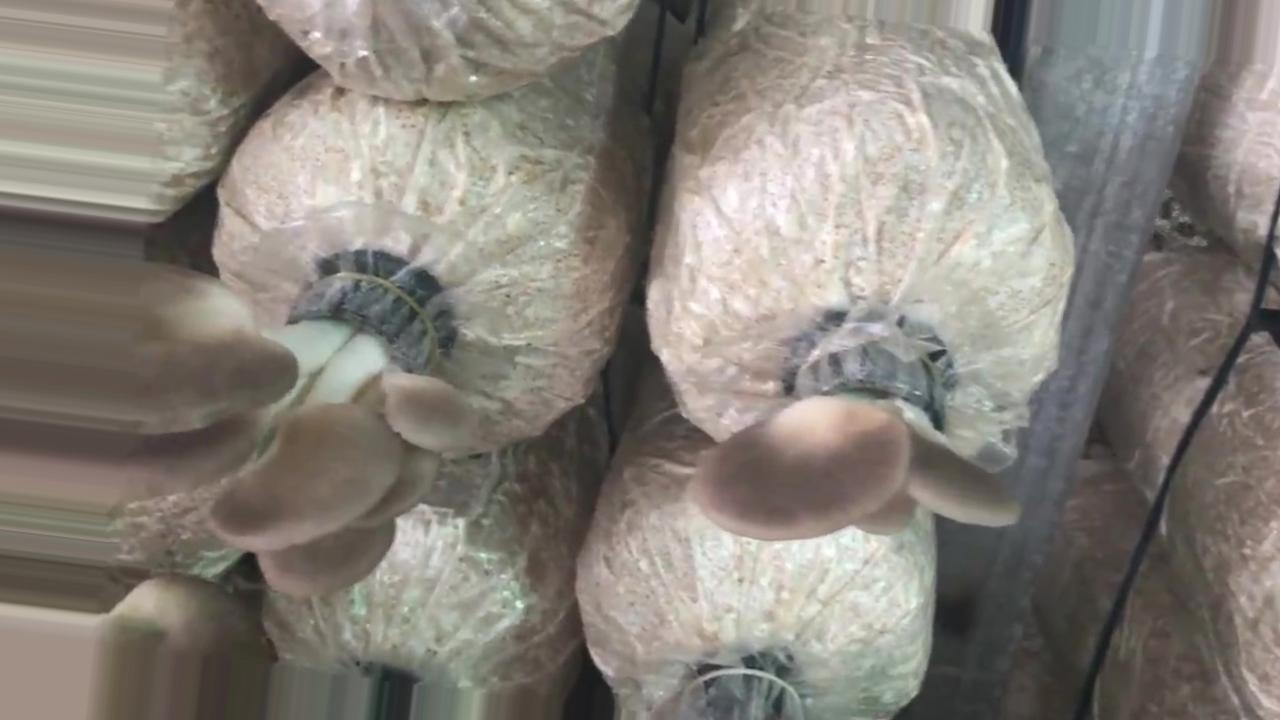nam: (138, 246, 525, 599), (691, 349, 1025, 545)
